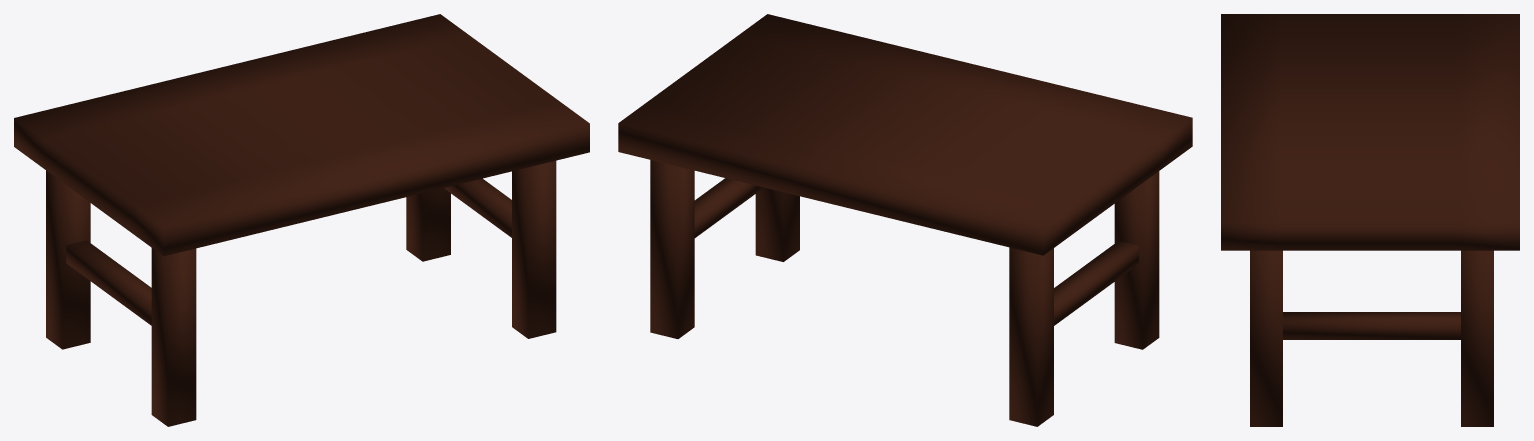
File: table_size_sample3.FBX
3 renders of one model, left to right at view 1: azimuth 30°, elevation 25°; view 2: azimuth 150°, elevation 25°; view 3: azimuth 270°, elevation 25°, orthographic.
Visible parts, largest first — view 1: Box003; view 2: Box003; view 3: Box003.
Part boxes in pixels (x1=…): Box003: x1=14, y1=14, x2=589, y2=426; Box003: x1=618, y1=14, x2=1192, y2=426; Box003: x1=1221, y1=14, x2=1519, y2=426.
Size of the model in its own units: 69.76 by 33.57 by 42.4.
